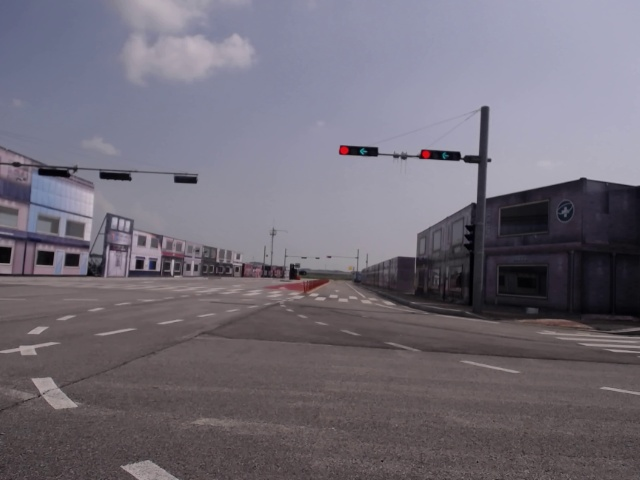left_green_4: (422, 150, 461, 161), (339, 147, 378, 156)
